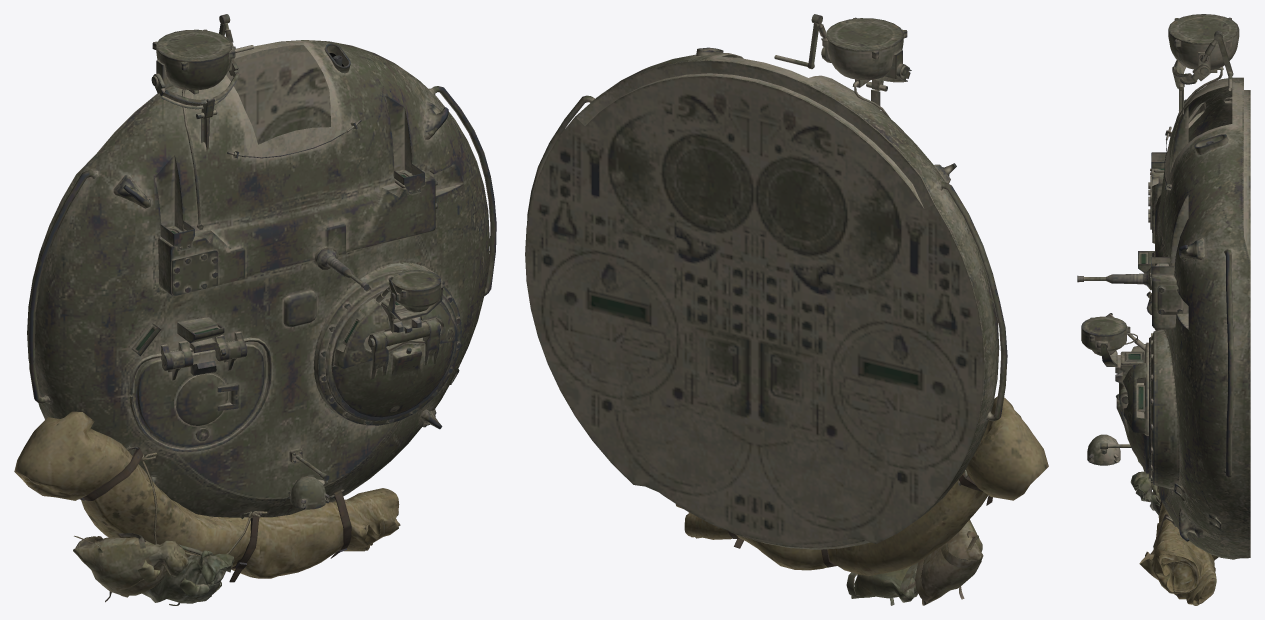
File: Turret_01.glb
3 renders of one model, left to right at view 1: azimuth 30°, elevation 25°; view 2: azimuth 150°, elevation 25°; view 3: azimuth 270°, elevation 25°, orthographic. The views are drawn at different scales.
Visible parts, largest first — view 1: set_0_group_0, set_0_group_1; view 2: set_0_group_0, set_0_group_1; view 3: set_0_group_0, set_0_group_1.
Boxes of the visible parts, x1,y1,x2,y2 form: set_0_group_0: (27,14,496,605); set_0_group_1: (14,411,400,582); set_0_group_0: (525,14,1007,605); set_0_group_1: (675,396,1048,576); set_0_group_0: (1077,14,1250,559); set_0_group_1: (1139,489,1218,605).
Bounding box in the file's own units: 2.56 × 2.84 × 0.8418.
2 materials, 2 textured.
